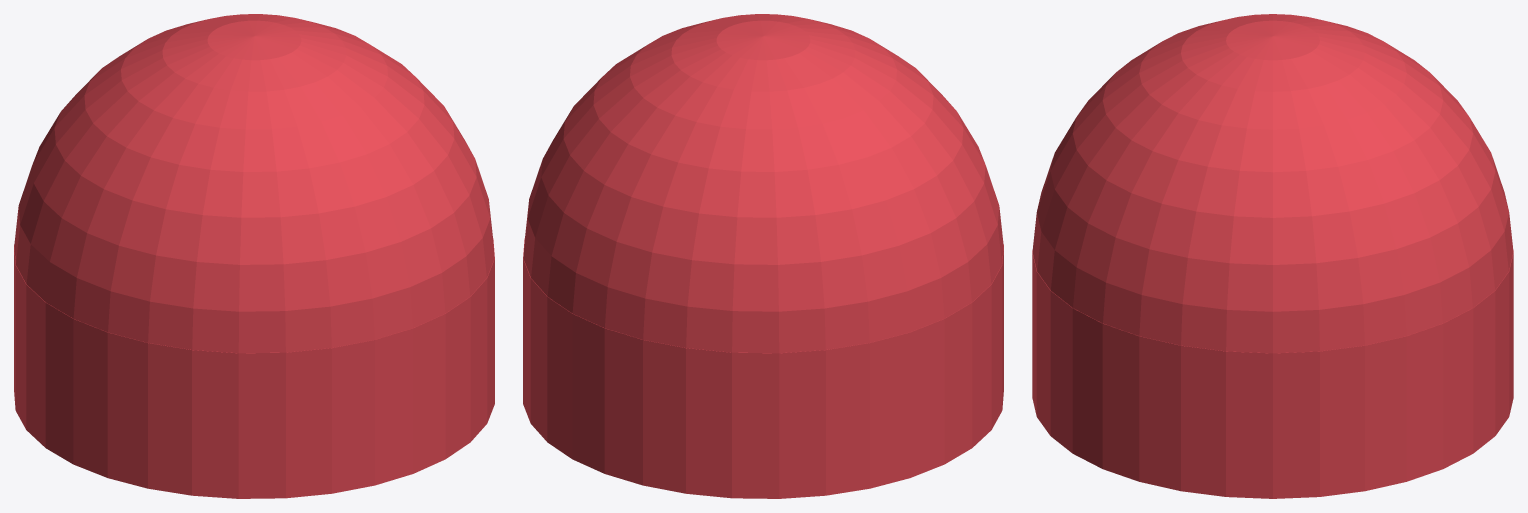
The model's file is DossunRing.glb.
The picture shows the model from 3 angles, left to right: view 1: azimuth 30°, elevation 25°; view 2: azimuth 150°, elevation 25°; view 3: azimuth 270°, elevation 25°; orthographic projection.
Parts seen in each view (by area): view 1: DossunRing_0.001; view 2: DossunRing_0.001; view 3: DossunRing_0.001.
Boxes of the visible parts, box(x1,y1,x2,y2) form: DossunRing_0.001: box(14, 14, 494, 498); DossunRing_0.001: box(523, 14, 1003, 498); DossunRing_0.001: box(1032, 14, 1513, 498).
Size of the model in its own units: 6 by 4.96 by 6.
